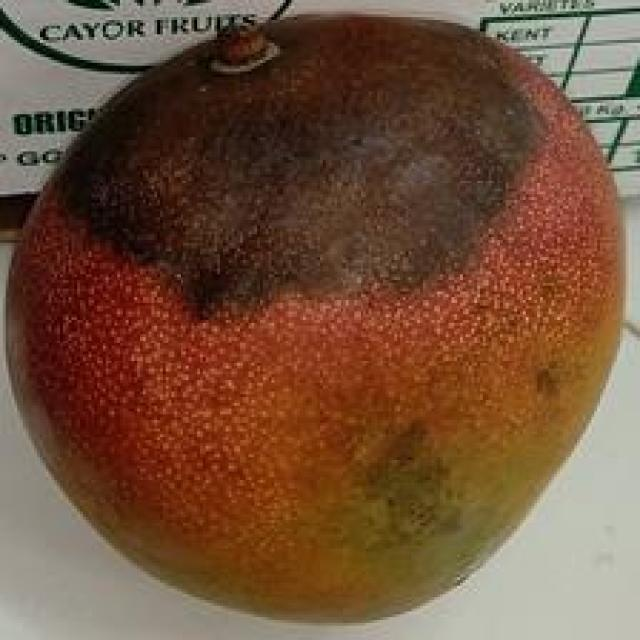Bad_Mango: (9, 18, 621, 619)
